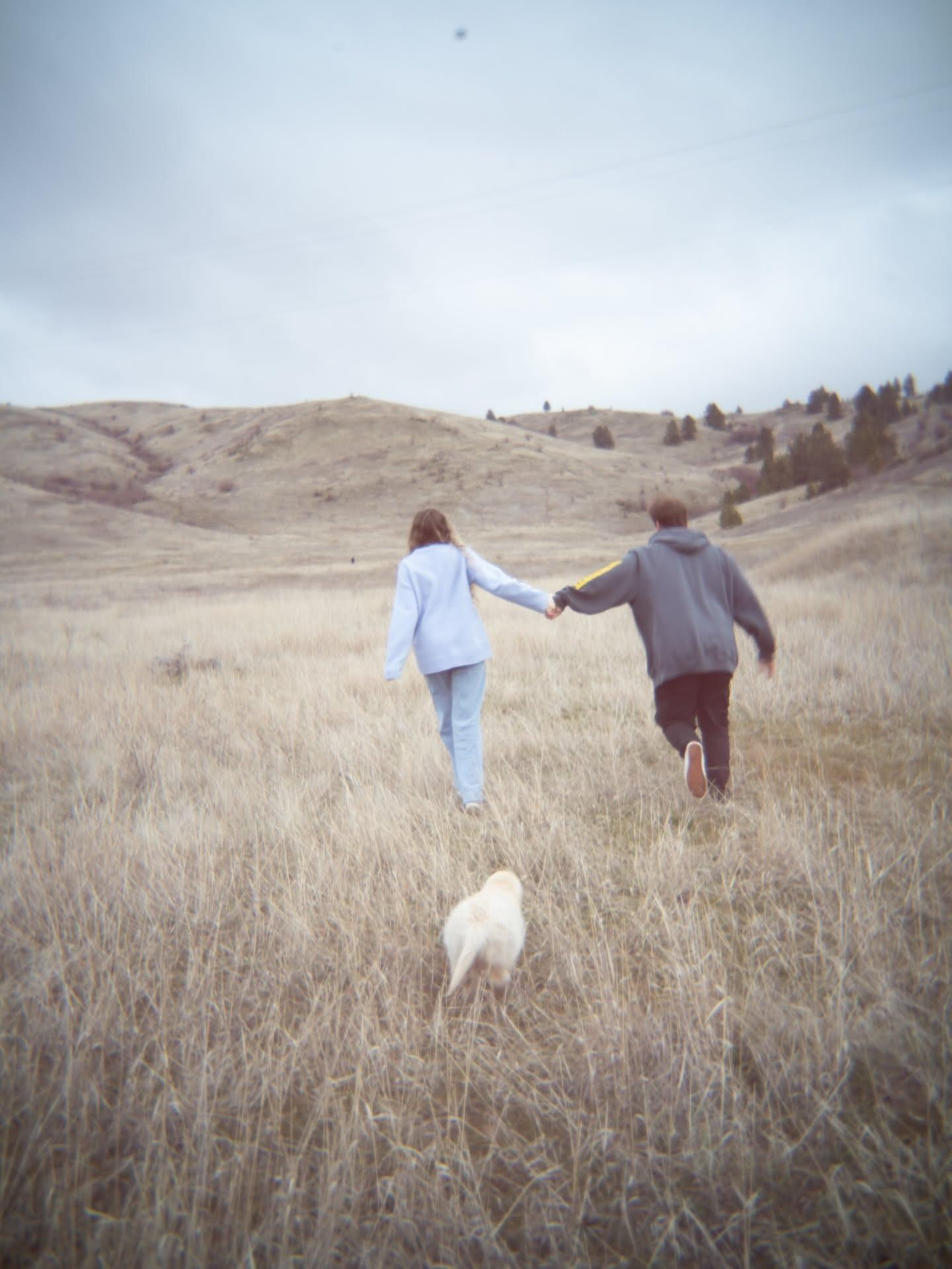non-dog: (550, 497, 777, 807), (382, 508, 562, 818)
puppy-dog: (436, 869, 528, 1004)
